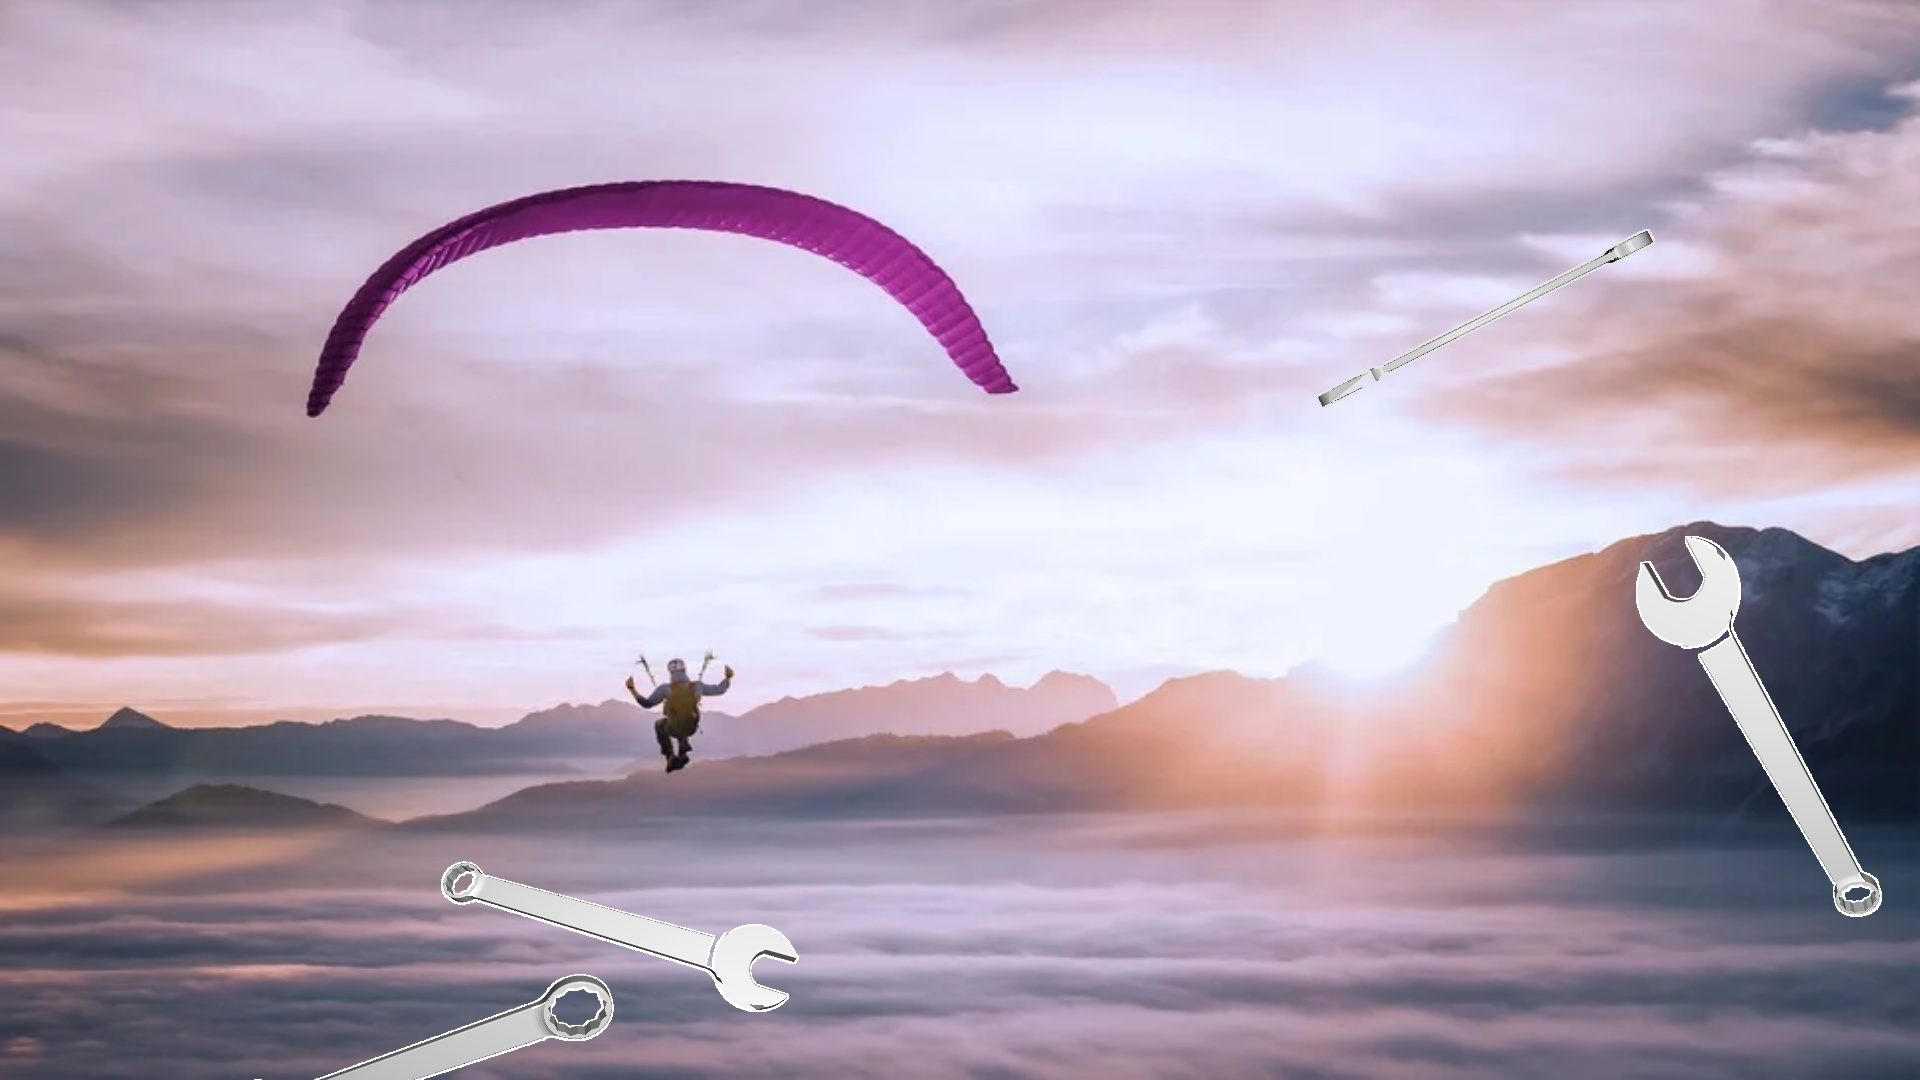Mixed Key: (1636, 535, 1880, 916), (1317, 229, 1654, 407), (440, 861, 798, 1011), (255, 975, 613, 1079)
